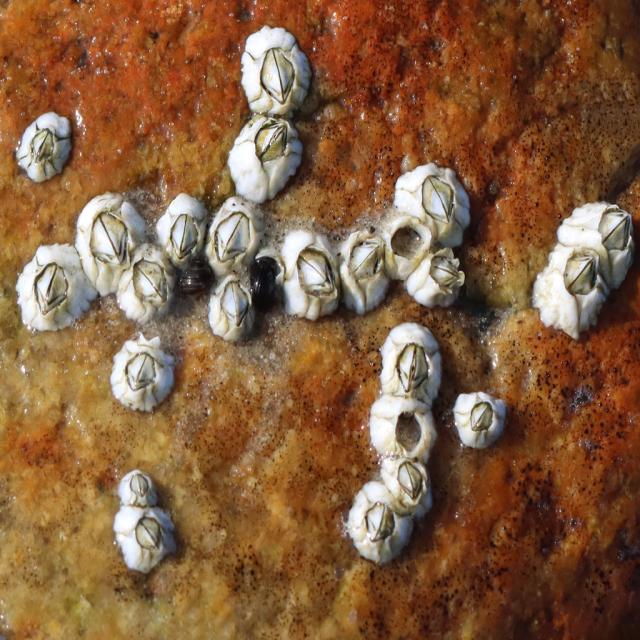barnacles: (237, 17, 314, 120), (76, 189, 147, 300), (529, 246, 610, 342), (15, 240, 94, 334), (228, 112, 304, 203), (396, 161, 473, 248), (374, 324, 451, 411), (109, 331, 178, 418), (349, 484, 416, 572), (281, 232, 342, 326), (12, 104, 79, 188), (362, 393, 440, 465), (336, 228, 392, 316), (112, 506, 179, 576), (121, 250, 178, 329), (155, 188, 205, 276), (208, 197, 260, 277), (407, 248, 467, 312), (449, 389, 508, 450), (208, 276, 258, 347), (383, 456, 435, 520), (585, 200, 638, 260), (116, 469, 156, 508)
